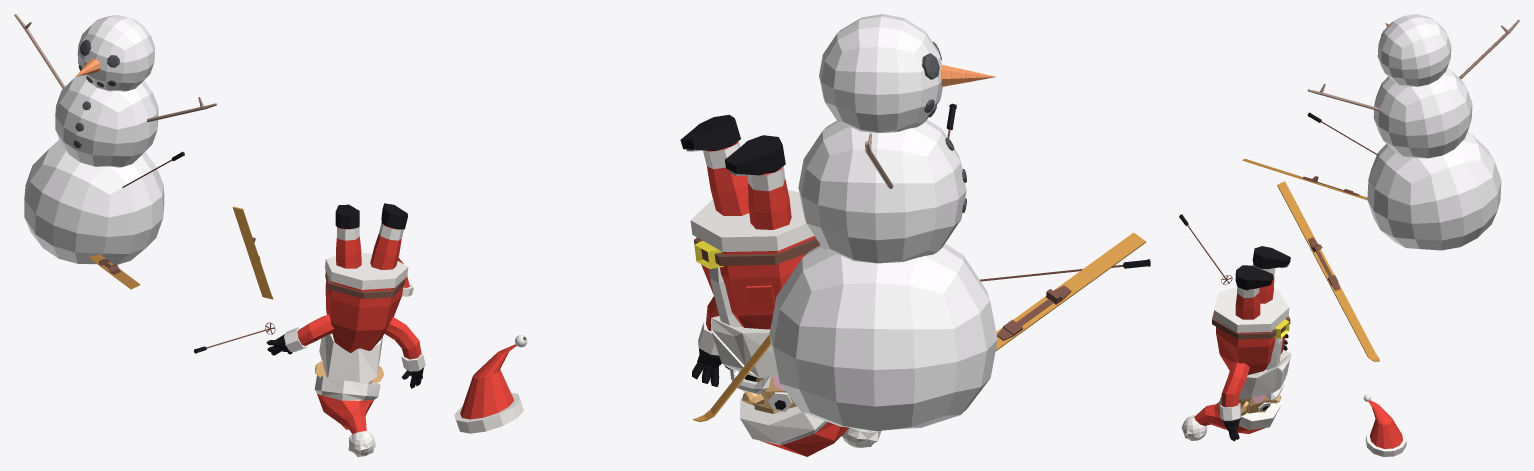
The model's file is easter-egg-transformed.glb.
The picture shows the model from 3 angles, left to right: view 1: azimuth 30°, elevation 25°; view 2: azimuth 150°, elevation 25°; view 3: azimuth 270°, elevation 25°; orthographic projection. The views are drawn at different scales.
Visible parts, largest first — view 1: snowman, santa; view 2: snowman, santa; view 3: snowman, santa.
Boxes of the visible parts, box(x1,y1,x2,y2) form: snowman: box(14, 14, 217, 264); santa: box(88, 151, 425, 456); snowman: box(769, 14, 997, 431); santa: box(454, 103, 1150, 456); snowman: box(1307, 14, 1519, 250); santa: box(1179, 112, 1406, 456).
Size of the model in its own units: 30.5 by 31.44 by 26.83.
2 materials, 2 textured.
